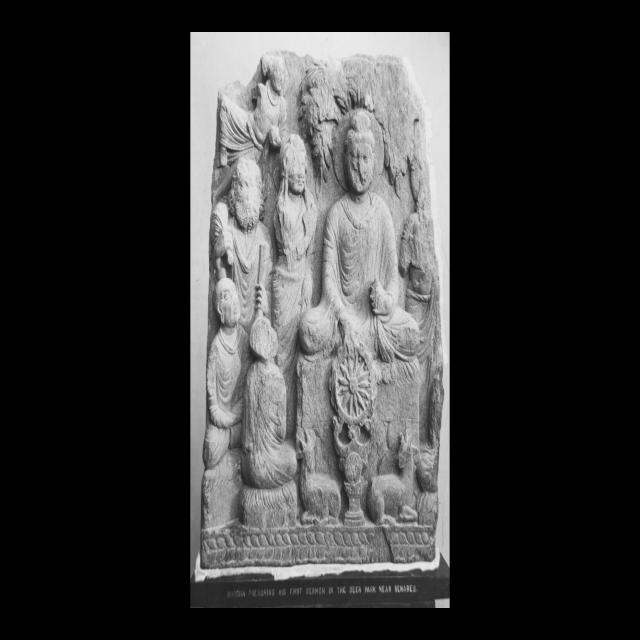buddha-sitting: (301, 110, 418, 363)
